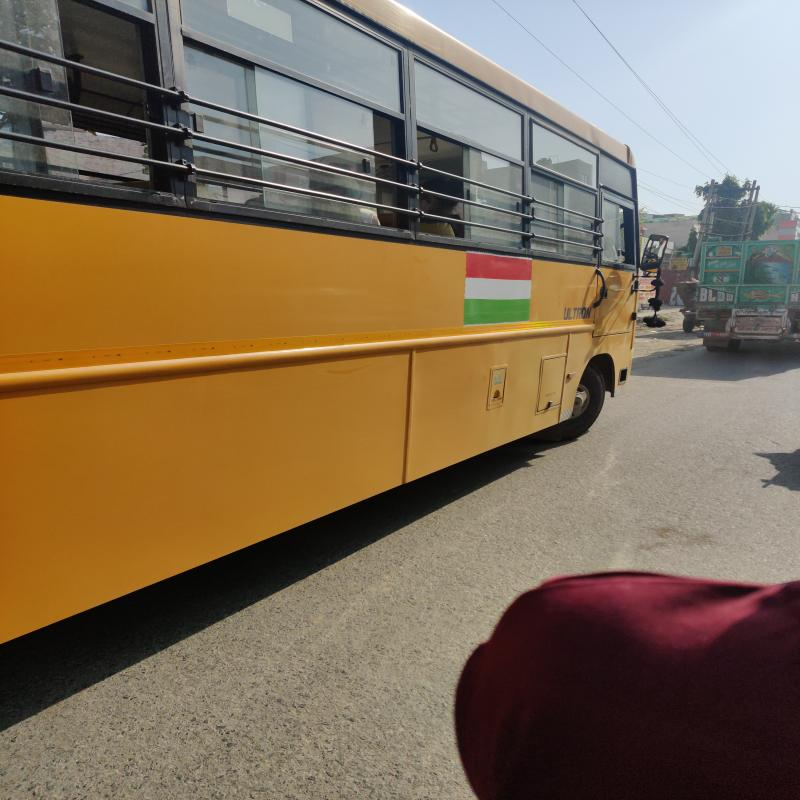bus: (0, 0, 645, 478)
